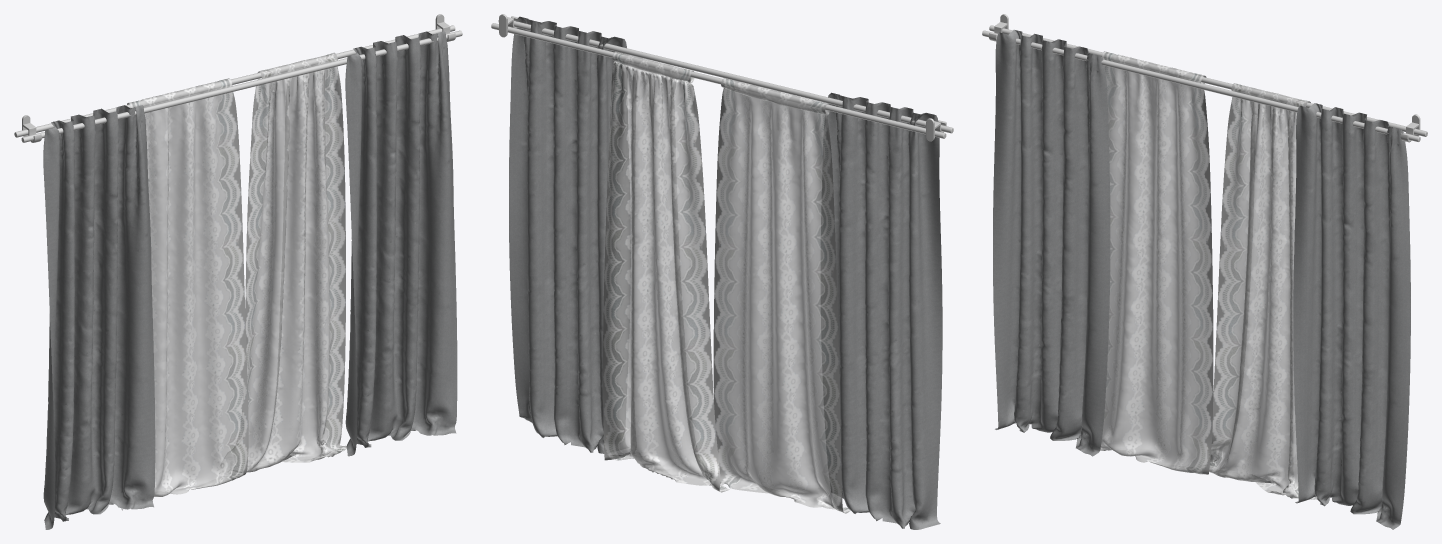
Rendered from MEGA_PACK_Curtain__curtain-154085_Frame_Gray.glb.
3 renders of one model, left to right at view 1: azimuth 30°, elevation 25°; view 2: azimuth 150°, elevation 25°; view 3: azimuth 330°, elevation 25°, orthographic. The views are drawn at different scales.
Visible parts, largest first — view 1: curtain-154085_Frame_Gray; view 2: curtain-154085_Frame_Gray; view 3: curtain-154085_Frame_Gray.
Part boxes in pixels (x1,y1,x2,y2): curtain-154085_Frame_Gray: [14, 14, 462, 529]; curtain-154085_Frame_Gray: [491, 14, 953, 529]; curtain-154085_Frame_Gray: [982, 14, 1427, 529].
Size of the model in its own units: 2.92 by 2.6 by 0.294.
Materials: 1 (1 with a texture image).
